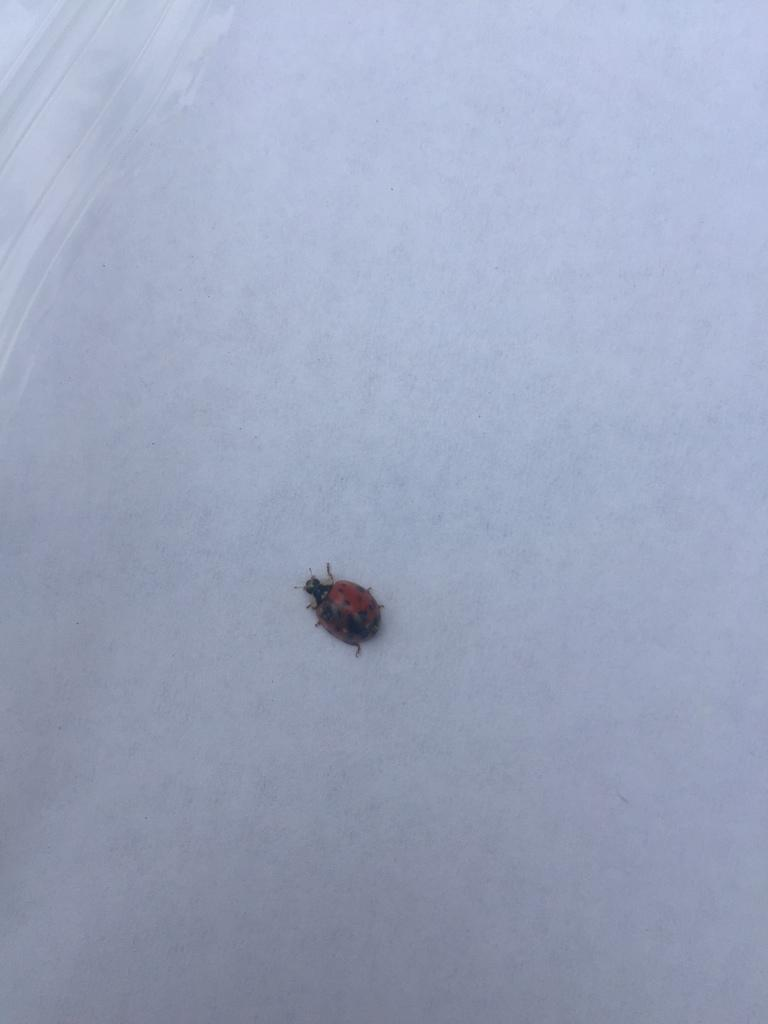ladybug: (292, 560, 390, 662)
